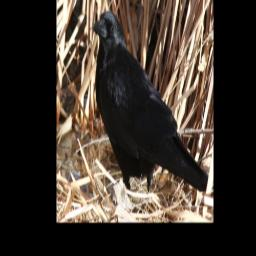Crow: (91, 9, 209, 194)
